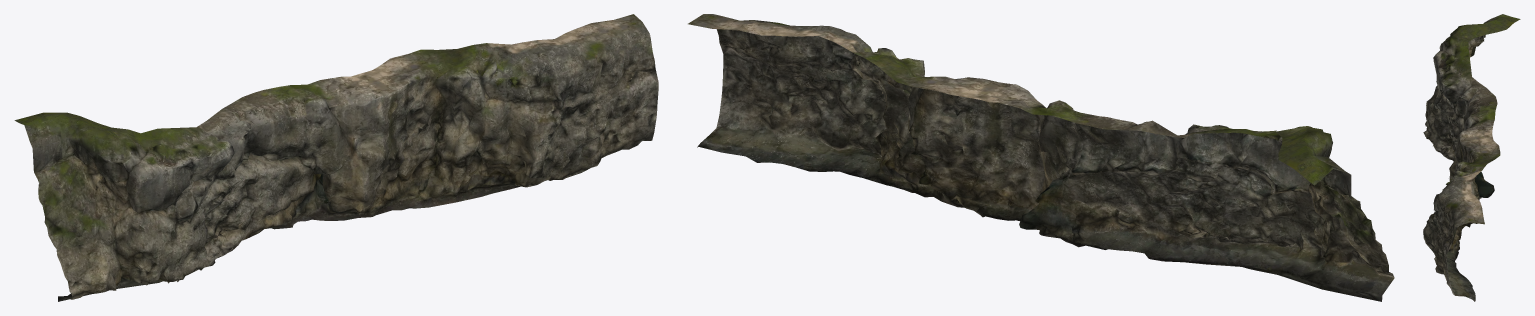
The model's file is coastal_cliff_02.glb.
3 views of the same model, side by side, from view 1: azimuth 30°, elevation 25°; view 2: azimuth 150°, elevation 25°; view 3: azimuth 270°, elevation 25° (orthographic). The views are drawn at different scales.
Visible parts, largest first — view 1: coastal_cliff_02_LOD0; view 2: coastal_cliff_02_LOD0; view 3: coastal_cliff_02_LOD0.
Part boxes in pixels (<box>): coastal_cliff_02_LOD0: <box>14,14,658,301</box>; coastal_cliff_02_LOD0: <box>688,14,1394,301</box>; coastal_cliff_02_LOD0: <box>1423,14,1520,301</box>.
Size of the model in its own units: 40.93 by 10 by 8.6.
Materials: 1 (1 with a texture image).
